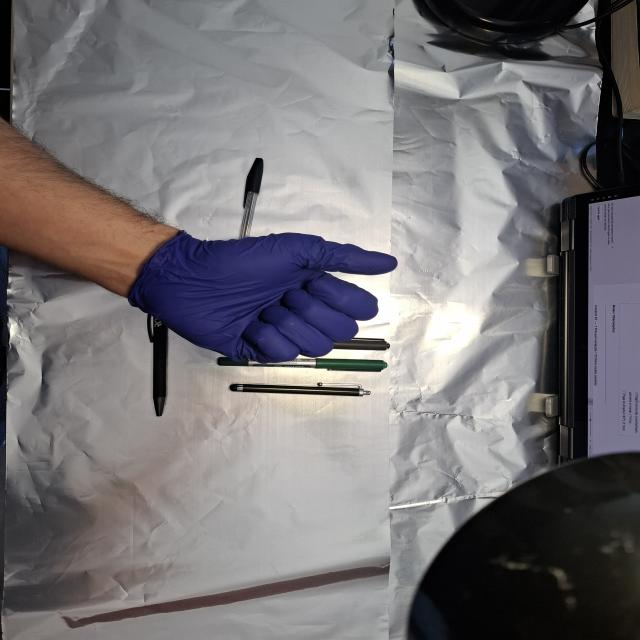glove_on: (124, 225, 400, 366)
